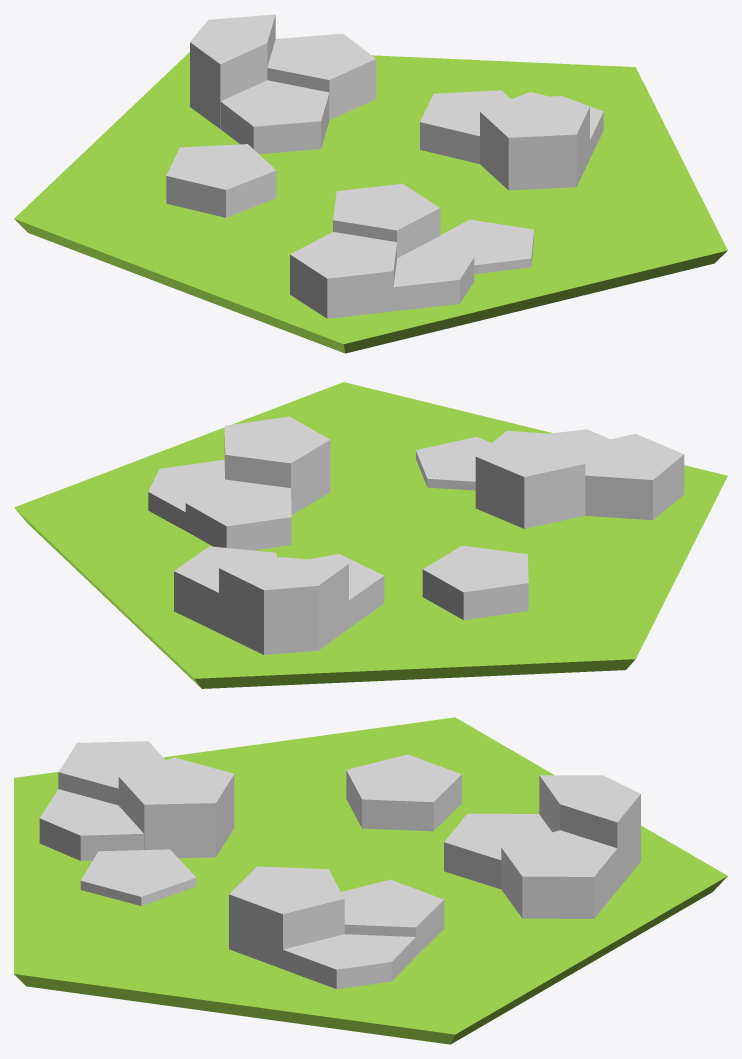
The model's file is TuileRock.fbx.
3 views of the same model, one above another, from view 1: azimuth 30°, elevation 25°; view 2: azimuth 150°, elevation 25°; view 3: azimuth 270°, elevation 25° (orthographic). The views are drawn at different scales.
Visible parts, largest first — view 1: origine; view 2: origine; view 3: origine.
Part boxes in pixels (left/top/right/bottom): origine: left=14, top=14, right=727, bottom=353; origine: left=14, top=382, right=727, bottom=688; origine: left=14, top=717, right=727, bottom=1044.
Bounding box in the file's own units: 111 × 13.69 × 105.
